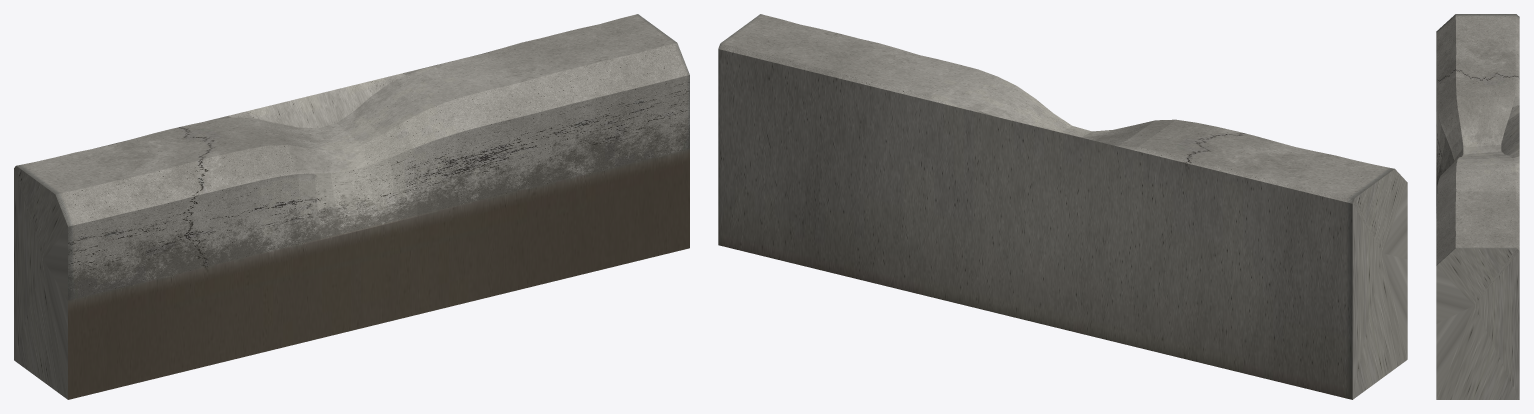
Rendered from curb_broken_web.glb.
3 renders of one model, left to right at view 1: azimuth 30°, elevation 25°; view 2: azimuth 150°, elevation 25°; view 3: azimuth 270°, elevation 25°, orthographic. The views are drawn at different scales.
Visible parts, largest first — view 1: curb_broken_Mesh; view 2: curb_broken_Mesh; view 3: curb_broken_Mesh.
Boxes of the visible parts, x1,y1,x2,y2 form: curb_broken_Mesh: (14,14,689,399); curb_broken_Mesh: (718,14,1407,399); curb_broken_Mesh: (1436,14,1519,399).
Bounding box in the file's own units: 0.995 × 0.3 × 0.15.
1 material, 1 textured.
